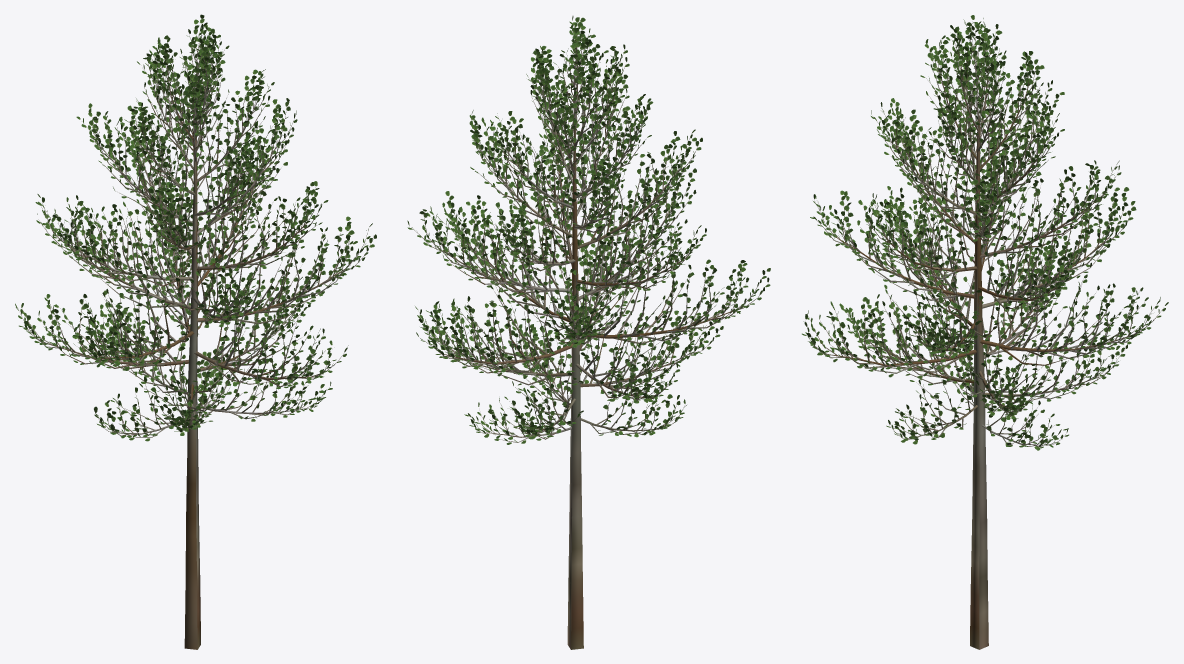
The model's file is Tree 1 (2).fbx.
The picture shows the model from 3 angles, left to right: view 1: azimuth 30°, elevation 25°; view 2: azimuth 150°, elevation 25°; view 3: azimuth 270°, elevation 25°; orthographic projection.
Parts seen in each view (by area): view 1: leaves, tree; view 2: leaves, tree; view 3: leaves, tree.
Part boxes in pixels (x1,y1,x2,y2): leaves: [15, 14, 376, 441]; tree: [20, 19, 373, 649]; leaves: [407, 16, 770, 444]; tree: [411, 23, 767, 649]; leaves: [802, 15, 1168, 450]; tree: [805, 24, 1162, 649].
Bounding box in the file's own units: 994 × 1926 × 1017.
